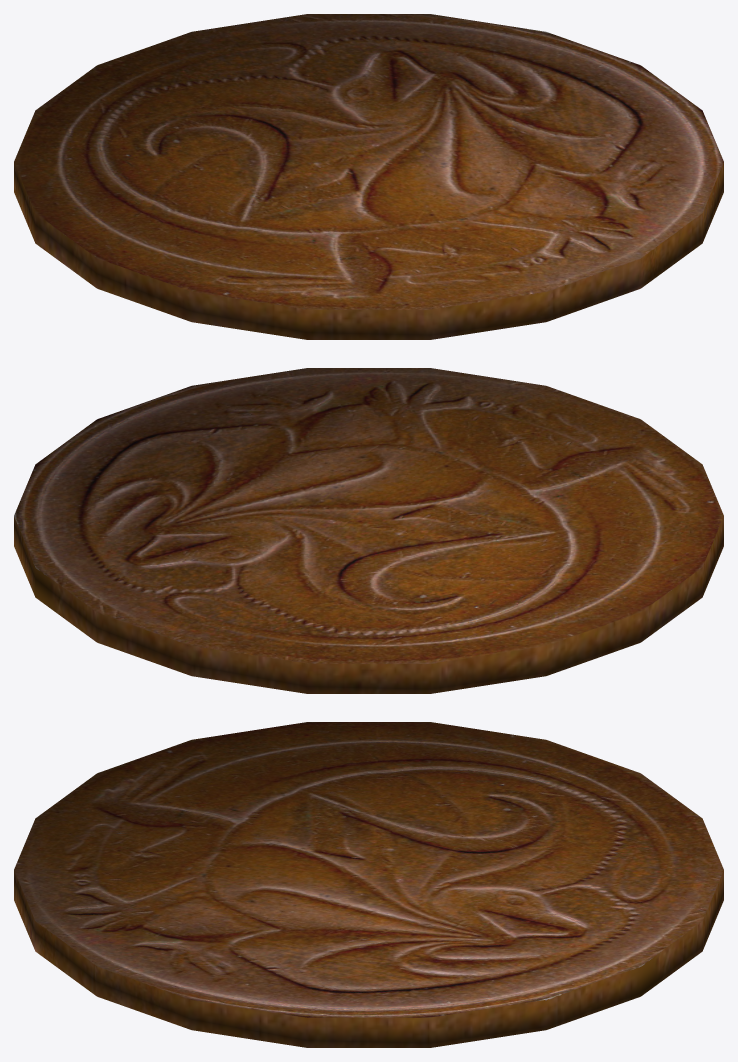
File: coin_01.fbx
3 views of the same model, one above another, from view 1: azimuth 30°, elevation 25°; view 2: azimuth 150°, elevation 25°; view 3: azimuth 270°, elevation 25° (orthographic).
Parts seen in each view (by area): view 1: coin_01; view 2: coin_01; view 3: coin_01.
Boxes of the visible parts, x1,y1,x2,y2 form: coin_01: (14, 14, 723, 339); coin_01: (14, 368, 723, 693); coin_01: (14, 722, 723, 1047).
Size of the model in its own units: 8.4 by 0.4033 by 8.53.
